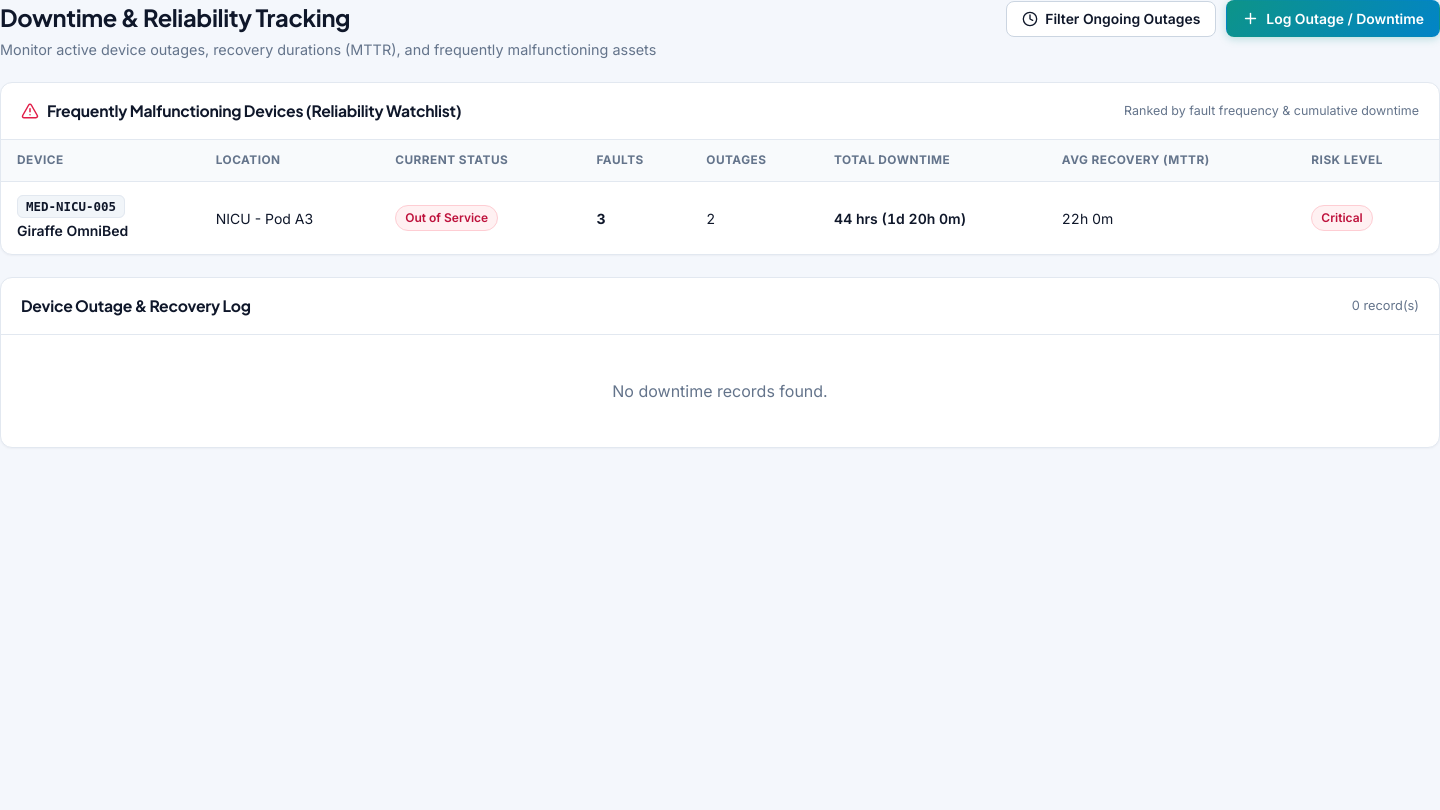
Scenario: MedWave Frontend Components & Modules › validates downtime recovery timestamps and shows frequent malfunctions in DowntimePage
Expected: the text "Giraffe OmniBed" is shown, [17,222,128,239]
# Open Log Outage modal and enter invalid recovery time before unavailable time
Click the button "Log Outage / Downtime" at (1333, 18), box [1226,0,1439,37]
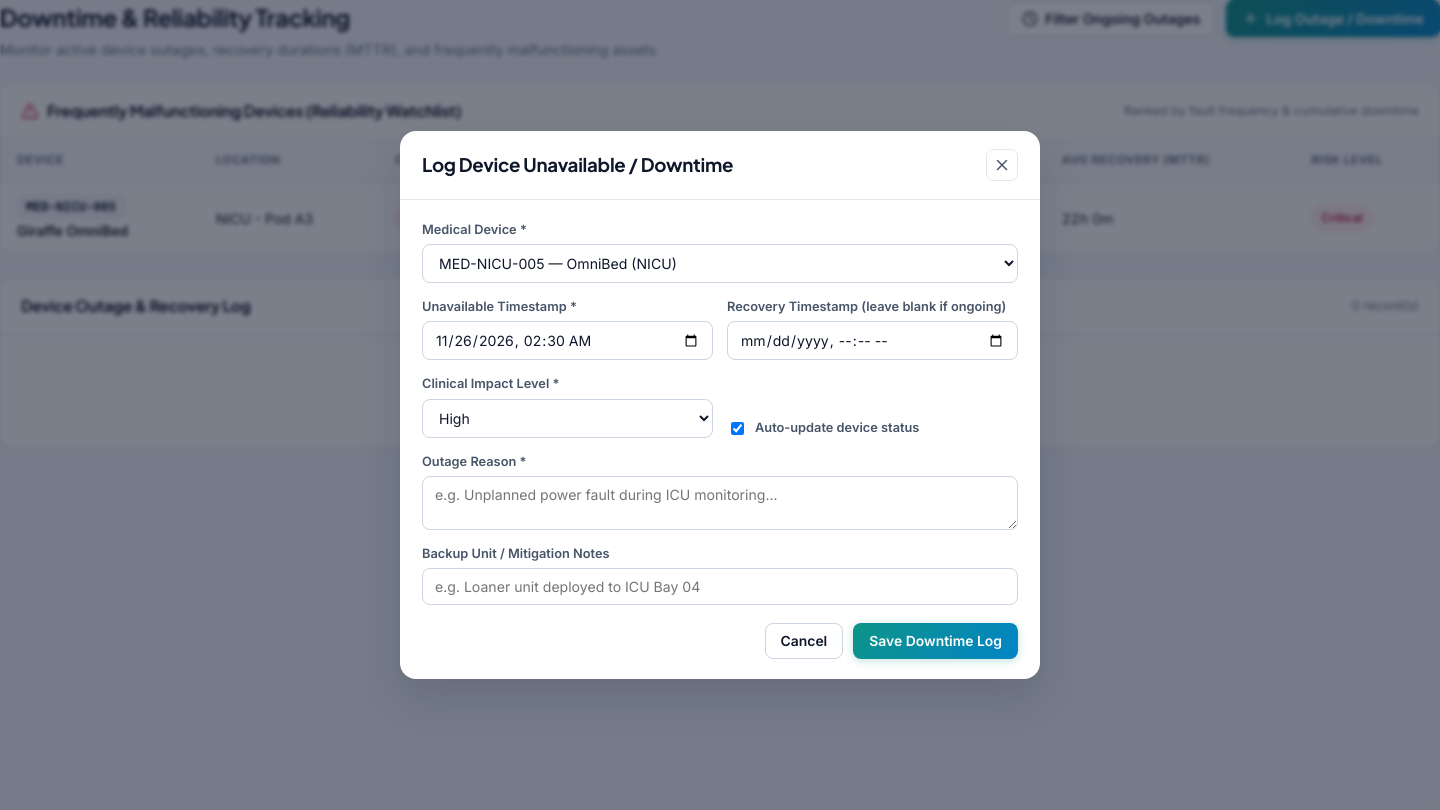
Replace the text in the field below "Unavailable Timestamp *" with "2026-11-26T10:00" at (568, 341), box [422,321,713,360]
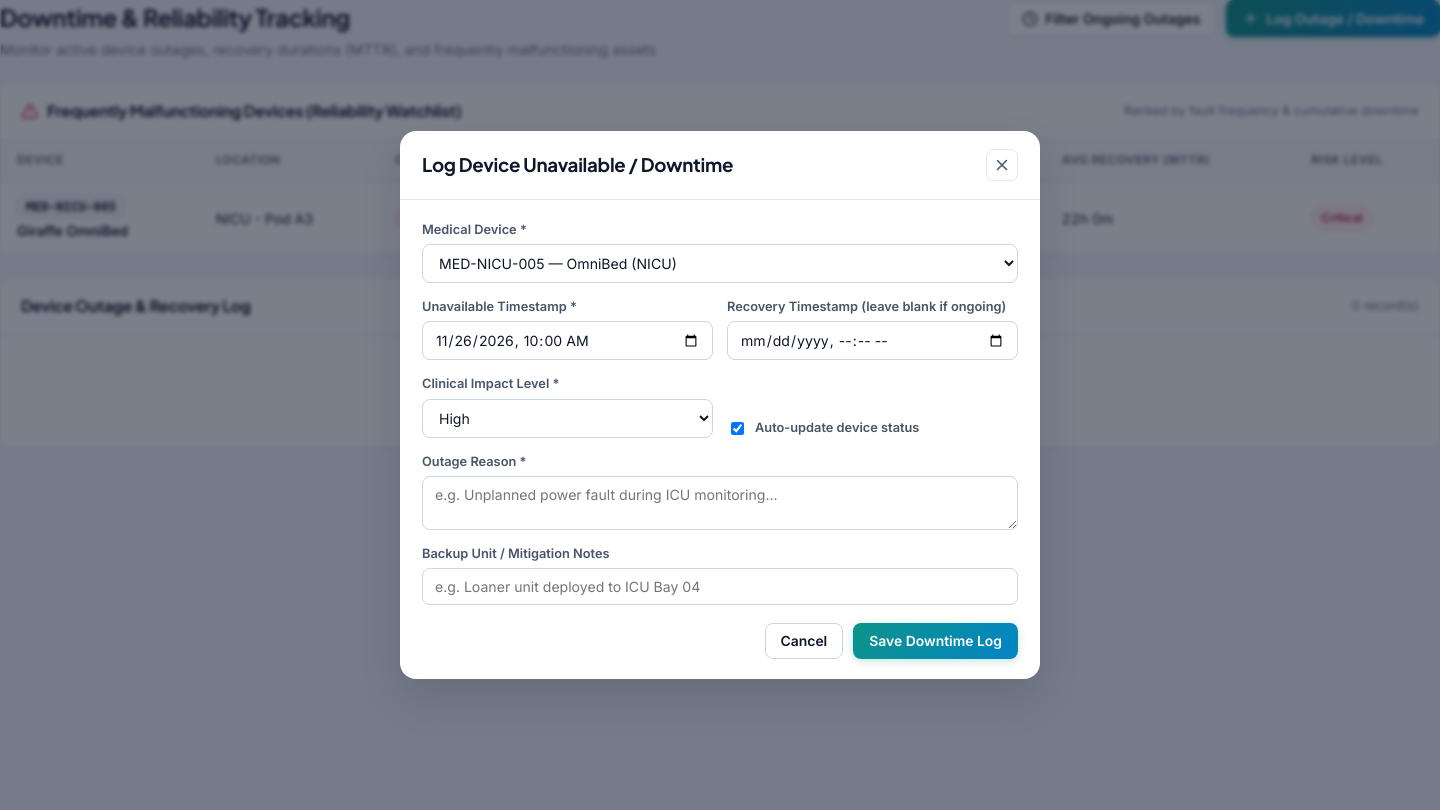
Type "2026-11-26T08:00" into the 2nd field at (872, 341), box [727,321,1018,360]
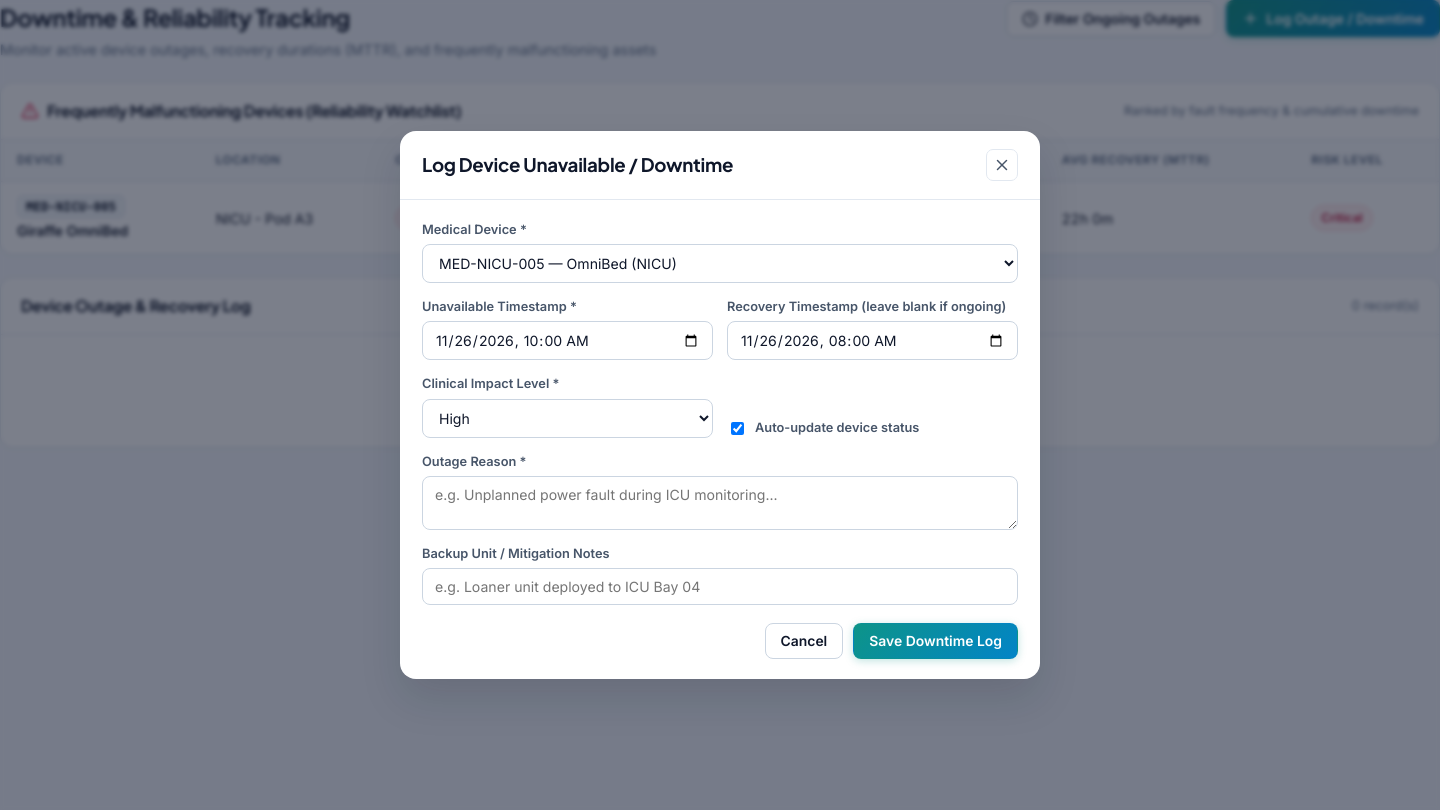
Type "Sensor failure" into the text box with placeholder "e.g. Unplanned power fault during ICU monitoring..." at (720, 503), box [422,476,1018,530]
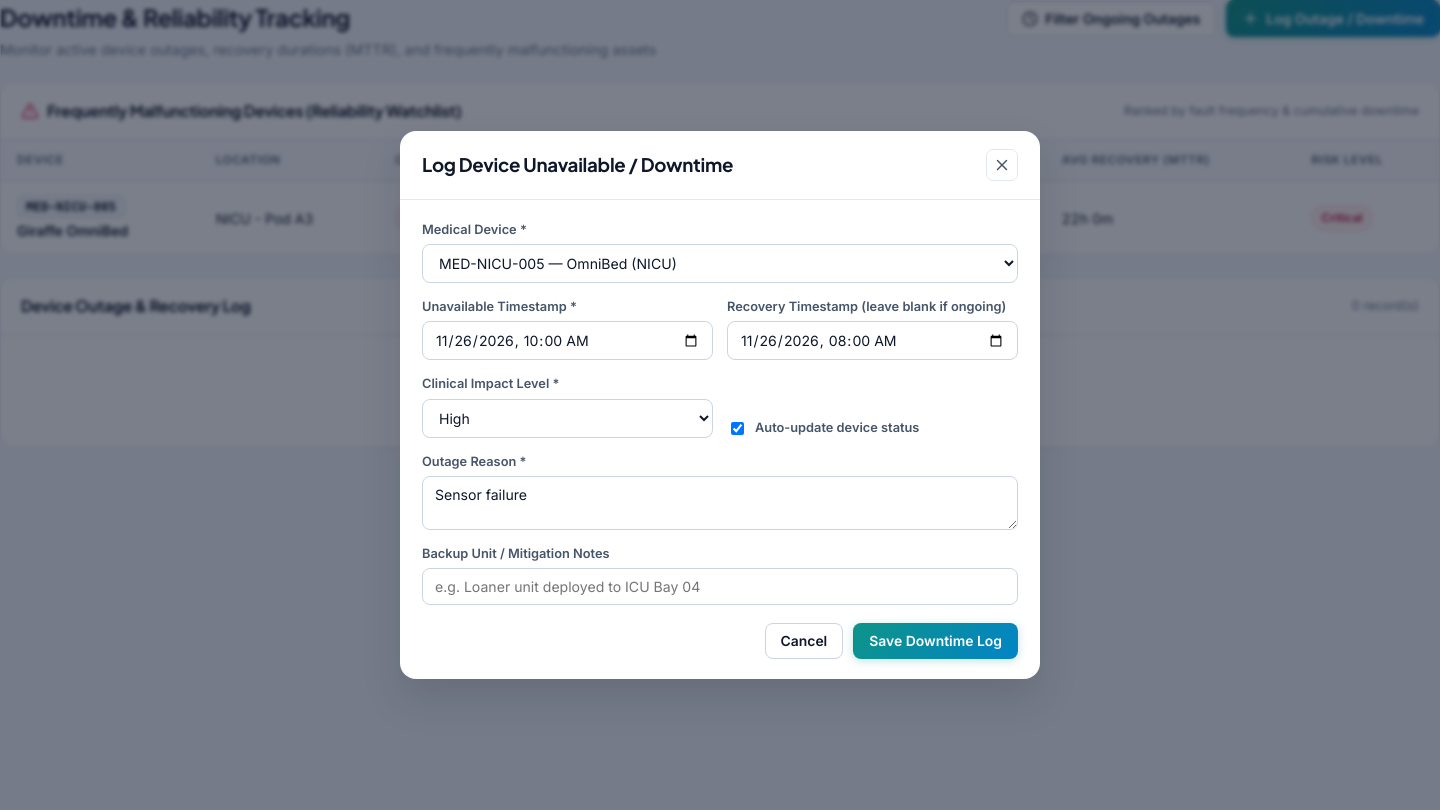
Click the button "Save Downtime Log" at (936, 641), box [853,623,1018,659]
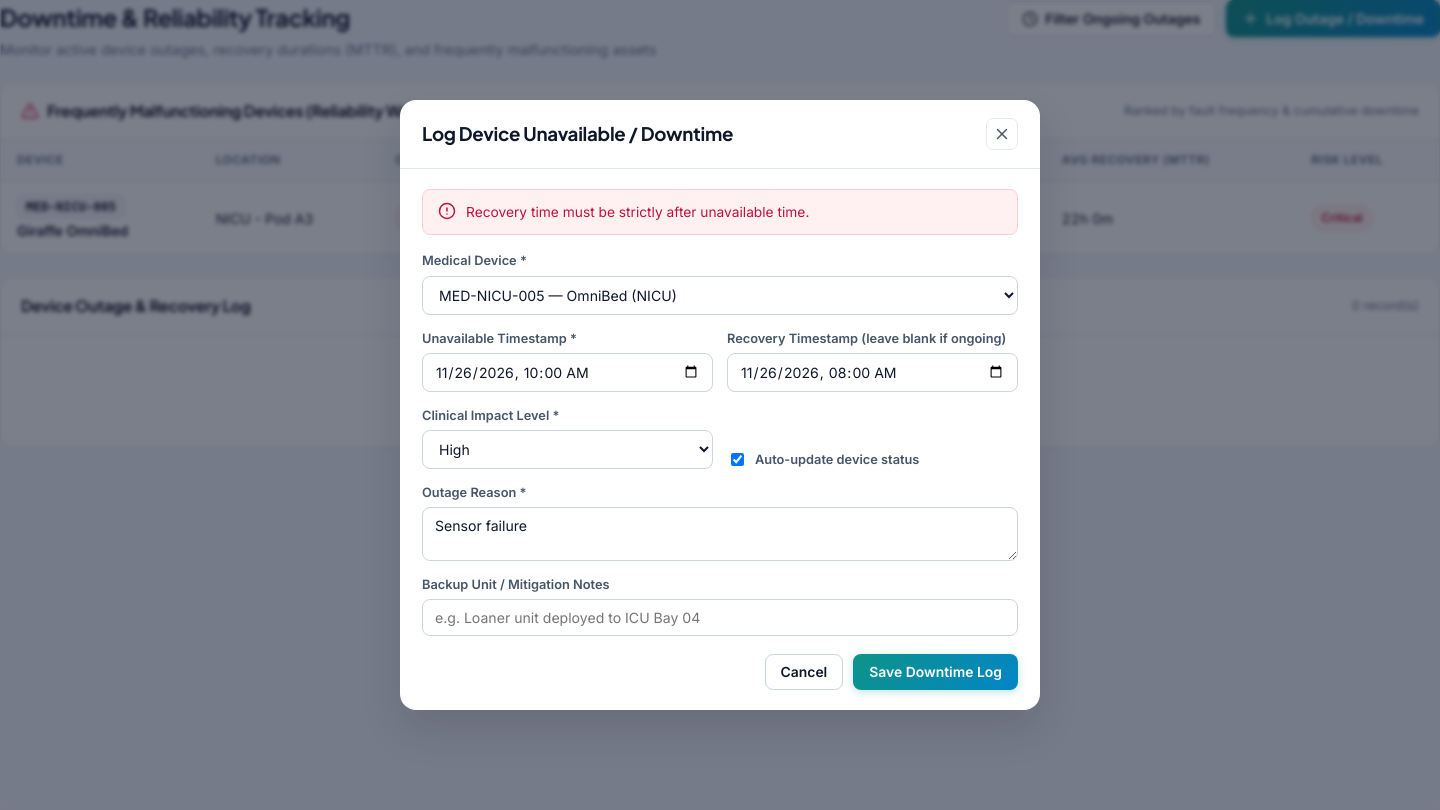
Expected: the text "Recovery time must be strictly after unavailable time." is shown, [466,202,809,222]
